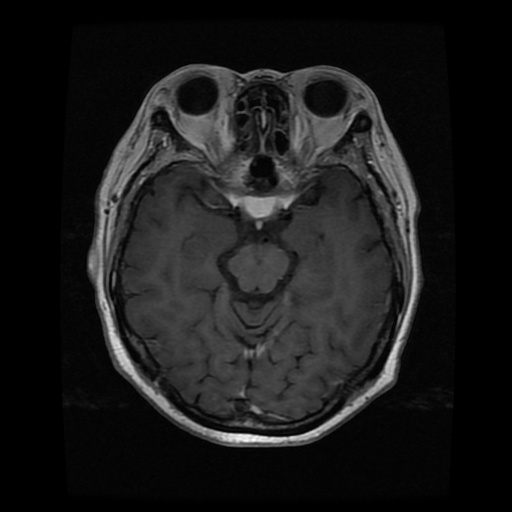meningioma: (237, 195, 276, 218)
